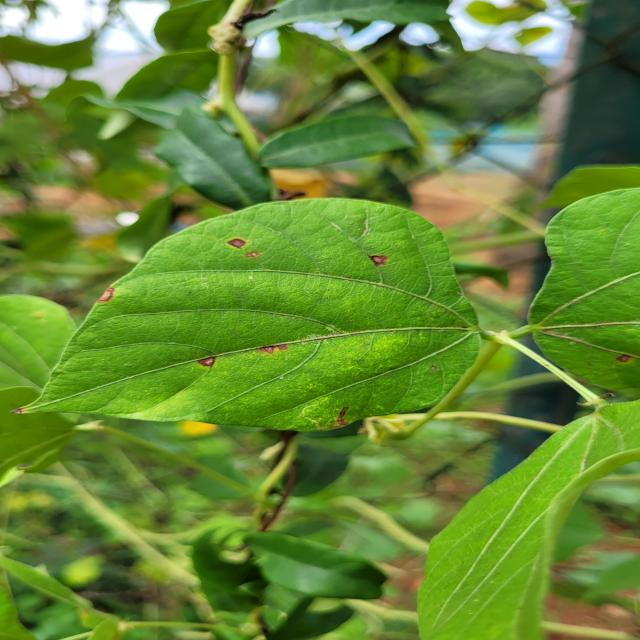Dolicos bean_cercospora leaf spot: (15, 198, 488, 432)
